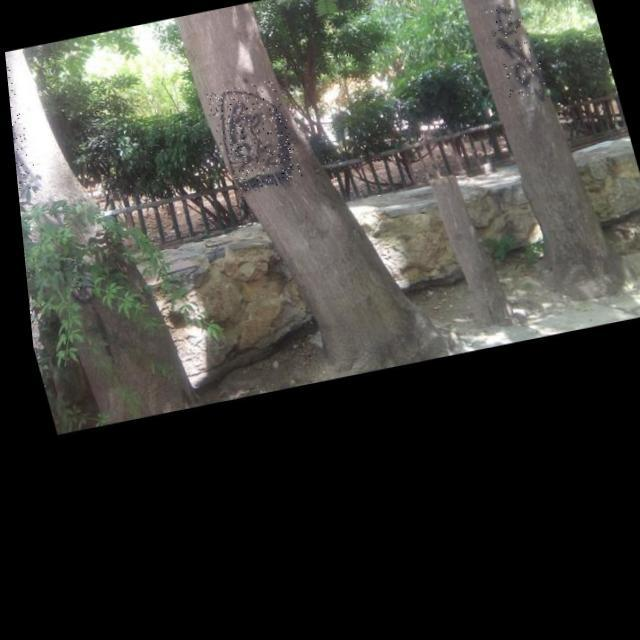-: (203, 80, 301, 198), (484, 1, 549, 109), (4, 51, 39, 200)
